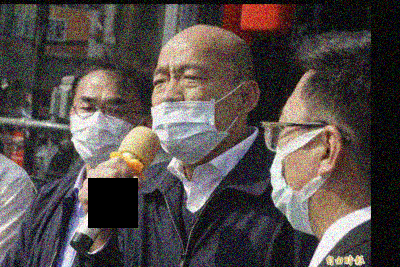mask_weared_incorrect: (151, 58, 243, 166)
with_mask: (259, 103, 325, 237), (69, 91, 146, 169)
